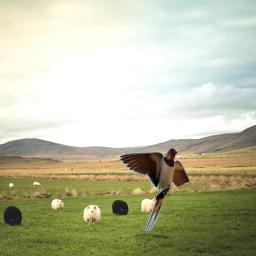Swallow: (120, 148, 190, 231)
